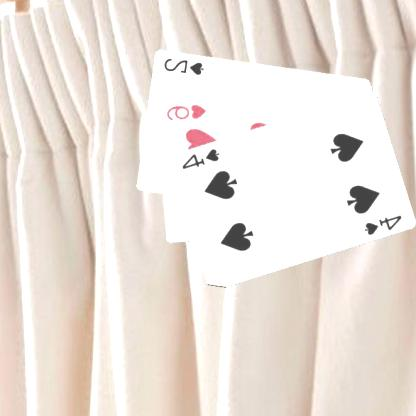2S: (163, 55, 207, 76)
4S: (180, 145, 223, 170), (362, 212, 404, 236)
6H: (165, 101, 209, 121)
